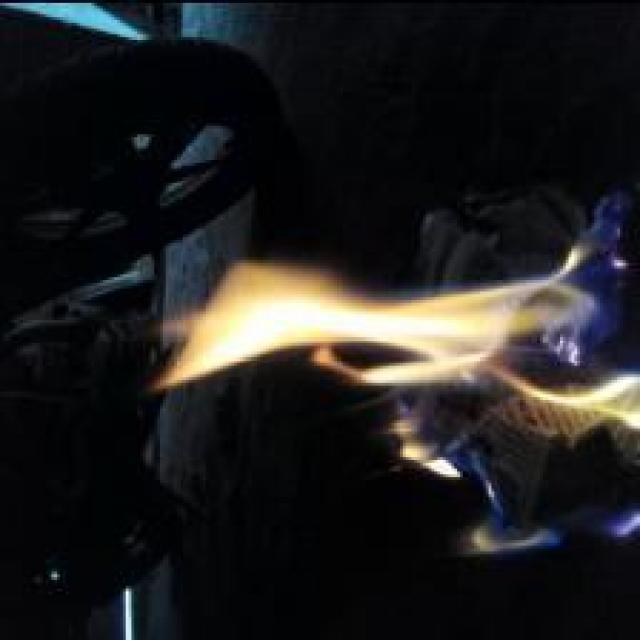fire: (157, 194, 639, 429), (393, 406, 459, 476), (471, 528, 554, 552)
